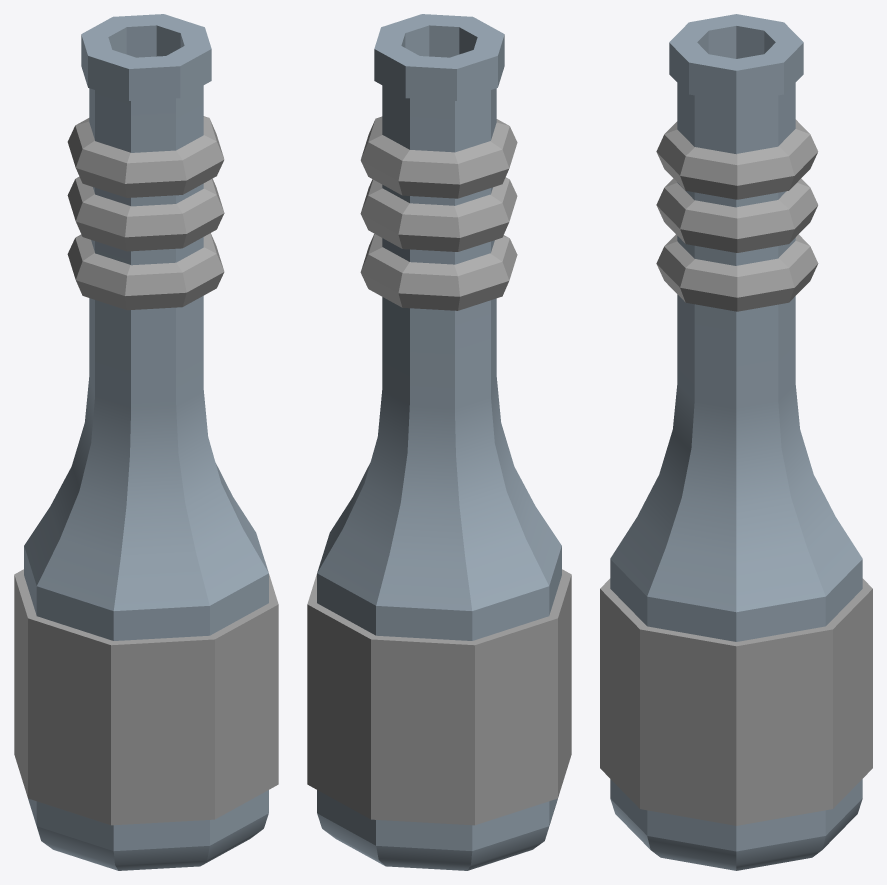
The model's file is vin 1.fbx.
3 renders of one model, left to right at view 1: azimuth 30°, elevation 25°; view 2: azimuth 150°, elevation 25°; view 3: azimuth 270°, elevation 25°, orthographic.
Visible parts, largest first — view 1: Bouteille; view 2: Bouteille; view 3: Bouteille.
Boxes of the visible parts, left/top/right/bottom form: Bouteille: left=14, top=14, right=278, bottom=870; Bouteille: left=307, top=14, right=571, bottom=870; Bouteille: left=600, top=14, right=872, bottom=870.
Bounding box in the file's own units: 0.8481 × 2.7 × 0.8481.
